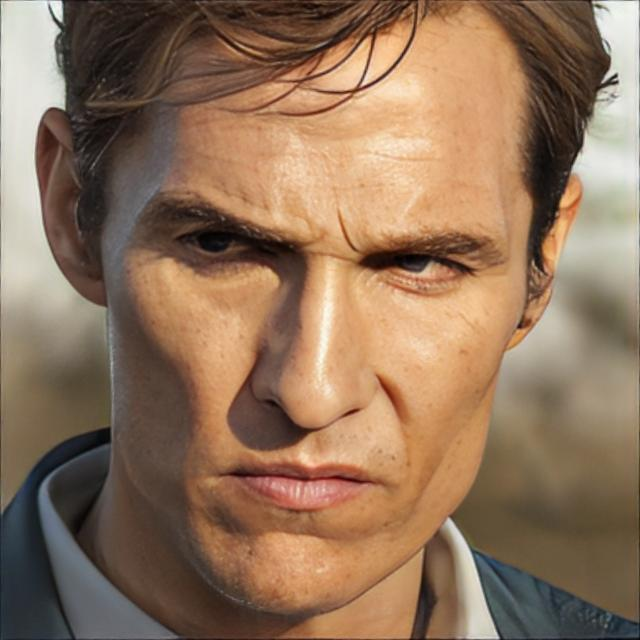anger: (107, 66, 523, 616)
